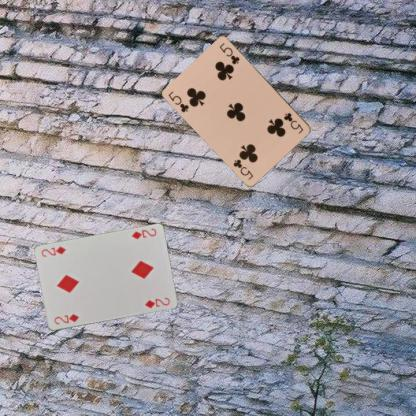2d: (51, 311, 80, 326), (129, 226, 158, 241)
5c: (166, 88, 190, 114), (282, 110, 304, 135)
